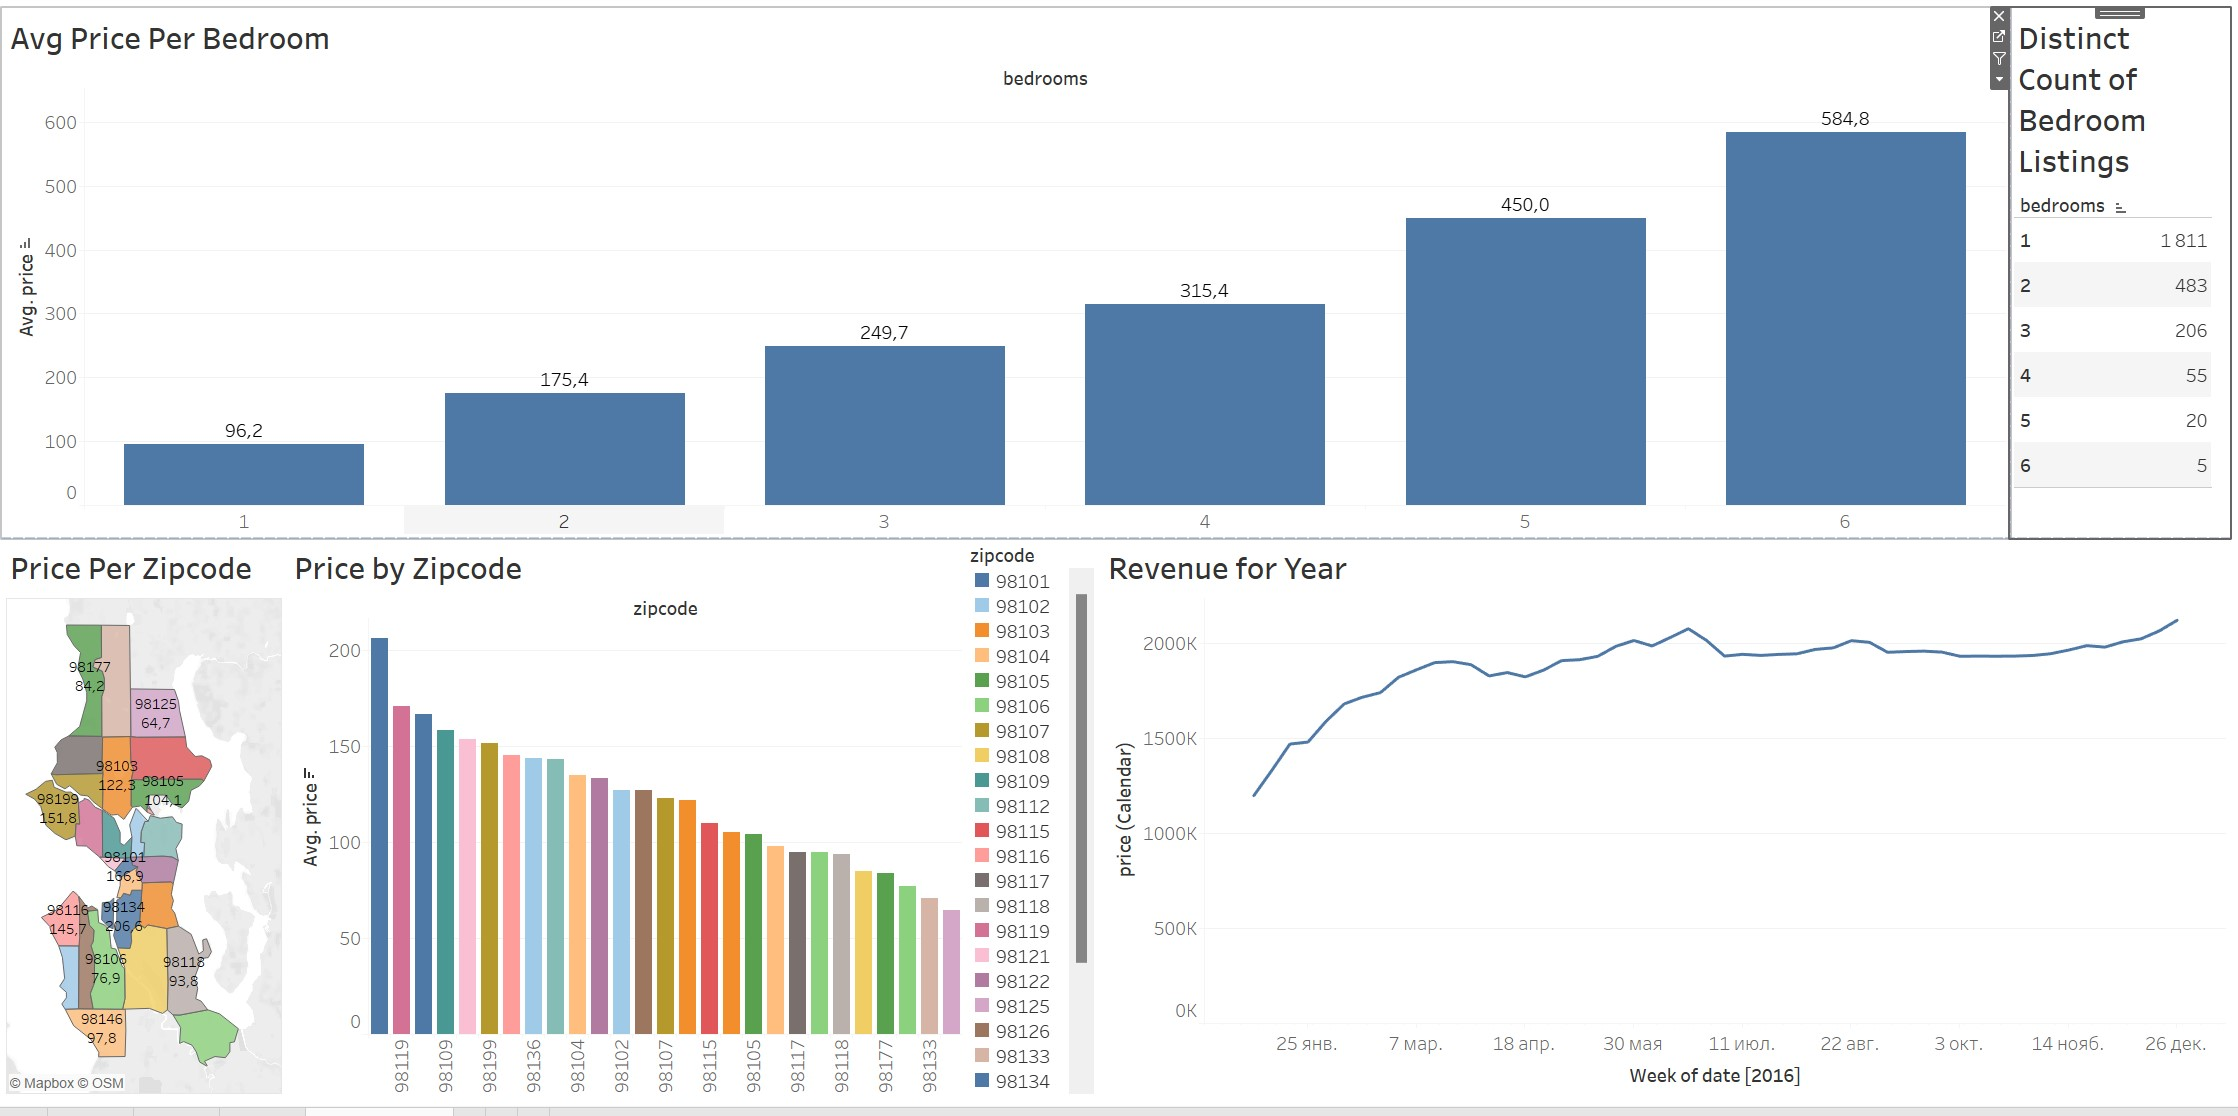

Layout of this report page (visuals, bound fields, positions):
{"tool":"tableau","page":{"name":"Dashboard 1","canvas":[1000,1000],"units":"permille","ordinal":0},"visuals":[{"type":"worksheet","title":"Sheet 4","mark":"Automatic","rows":["price"],"cols":["bedrooms"],"box":[3.6,7.2,894.8,479.2]},{"type":"worksheet","title":"Sheet 5","mark":"Automatic","rows":["bedrooms"],"box":[898.4,7.2,98,479.2]},{"type":"worksheet","title":"Sheet 2","mark":"Multipolygon","box":[3.6,486.4,126.7,506.3]},{"type":"worksheet","title":"Sheet 1","mark":"Automatic","rows":["price"],"cols":["zipcode"],"box":[130.3,486.4,302.9,506.3]},{"type":"legend","title":"Sheet 1","param":"[federated.05zvtc10ap1kvb1c1qdg80b6x9n7].[none:zipcode:ok]","box":[433.2,486.4,59.7,506.3]},{"type":"worksheet","title":"Sheet 3","mark":"Automatic","rows":["price (Calendar)"],"cols":["date"],"box":[492.9,486.4,503.6,506.3]}]}

Visuals, with their boxes on the dashboard's canvas, which has no fixed pixel size, in thousandths of its width and height (x1, y1, x2, y2). These are canvas units, not pixel positions in the 2238x1116 screenshot, which may show the page scaled, cropped or inside an application window:
"Sheet 4" worksheet: (4, 7, 898, 486)
"Sheet 5" worksheet: (898, 7, 996, 486)
"Sheet 2" worksheet (Multipolygon marks): (4, 486, 130, 993)
"Sheet 1" worksheet: (130, 486, 433, 993)
"Sheet 1" legend: (433, 486, 493, 993)
"Sheet 3" worksheet: (493, 486, 996, 993)
